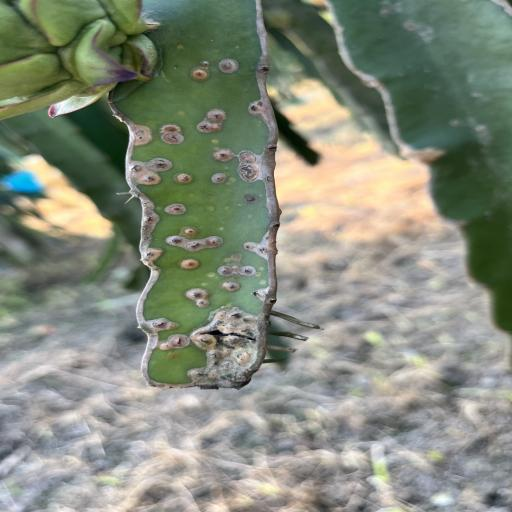stemcanker: (164, 103, 194, 118), (242, 242, 276, 255), (205, 202, 230, 218), (168, 45, 196, 58), (225, 173, 242, 193), (253, 266, 270, 286), (215, 223, 242, 235), (200, 270, 218, 288), (205, 136, 227, 149), (223, 282, 244, 294), (166, 62, 184, 75), (243, 212, 264, 222), (229, 251, 245, 262), (212, 124, 228, 135), (226, 302, 243, 312), (146, 250, 159, 263), (209, 174, 223, 186), (182, 258, 203, 266), (133, 135, 151, 144), (158, 343, 176, 352), (166, 352, 182, 362), (210, 308, 226, 318), (232, 201, 250, 209), (180, 228, 198, 236), (195, 299, 213, 307), (200, 188, 216, 196), (229, 44, 245, 52), (198, 61, 214, 68), (165, 323, 181, 330), (222, 256, 235, 263), (217, 165, 232, 171), (152, 236, 164, 243), (172, 44, 188, 49), (154, 204, 163, 212), (230, 264, 239, 271), (168, 354, 177, 360), (218, 304, 227, 310), (210, 139, 220, 144), (258, 280, 266, 285), (200, 282, 208, 287), (218, 226, 225, 231), (208, 272, 215, 277), (178, 112, 185, 115)
